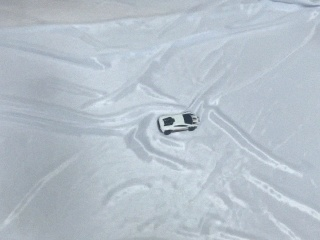toy_car: (157, 112, 199, 134)
